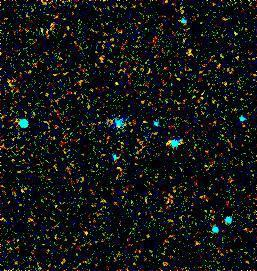star: (101, 69, 131, 99)
